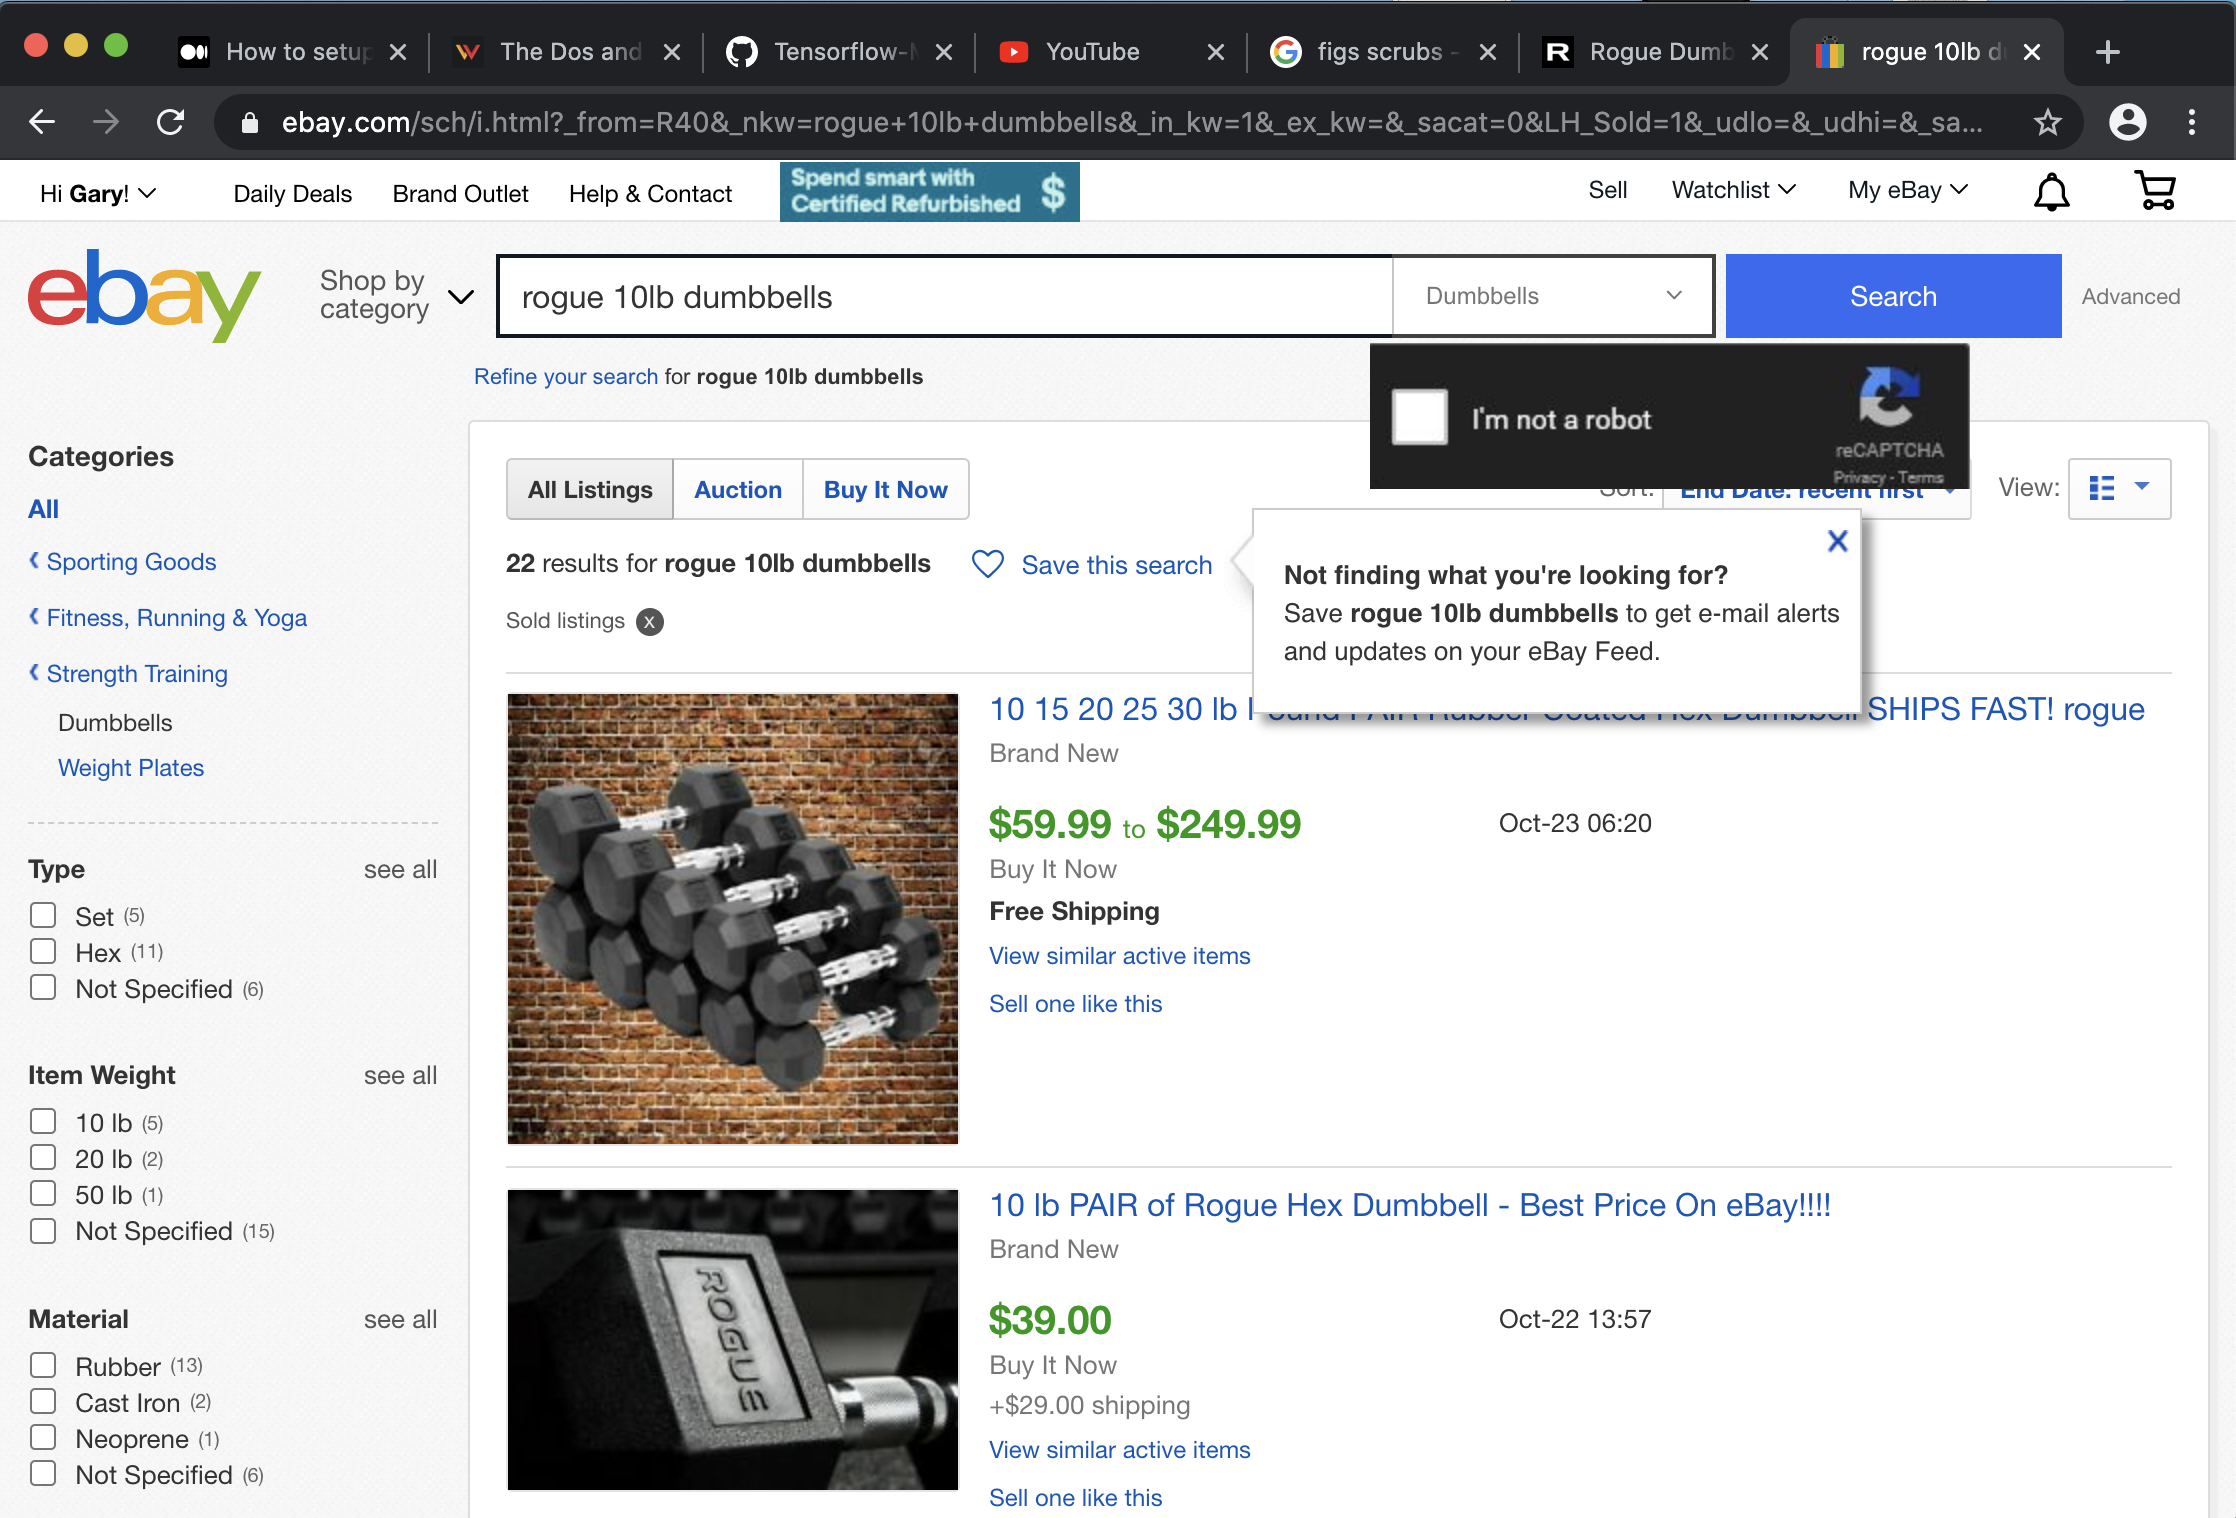captcha: (1360, 329, 1990, 512)
